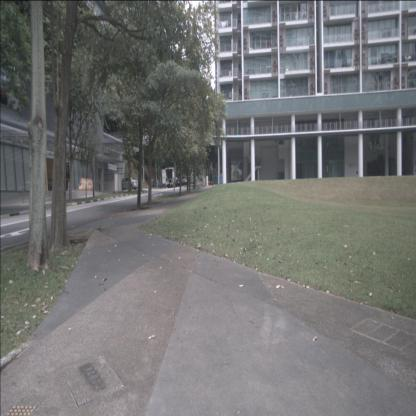vehicle-car: (119, 176, 138, 190), (173, 173, 184, 187), (181, 175, 190, 186)
vehicle-truck: (162, 167, 176, 188)
